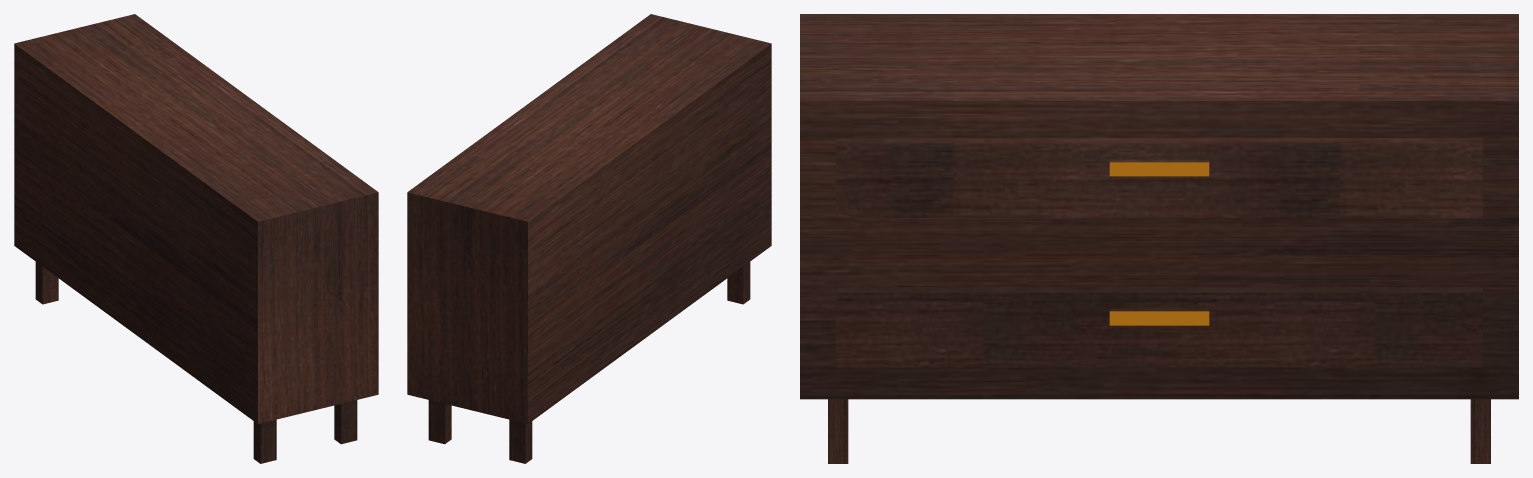
Rendered from CommodeMedievale.fbx.
3 renders of one model, left to right at view 1: azimuth 30°, elevation 25°; view 2: azimuth 150°, elevation 25°; view 3: azimuth 270°, elevation 25°, orthographic. The views are drawn at different scales.
Visible parts, largest first — view 1: CommodeMedievale; view 2: CommodeMedievale; view 3: CommodeMedievale.
Part boxes in pixels (x1=…): CommodeMedievale: x1=14, y1=14, x2=378, y2=463; CommodeMedievale: x1=407, y1=14, x2=771, y2=463; CommodeMedievale: x1=800, y1=14, x2=1518, y2=463.
Bounding box in the file's own units: 54.82 × 99.66 × 175.
